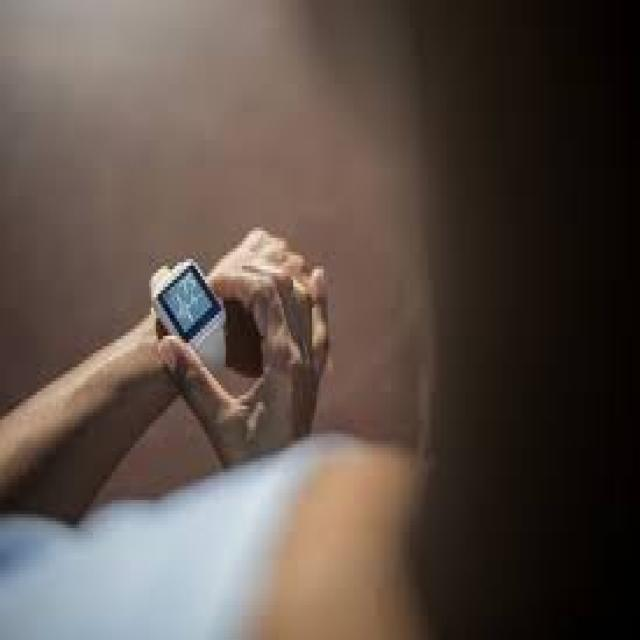objects: (146, 253, 239, 374)
